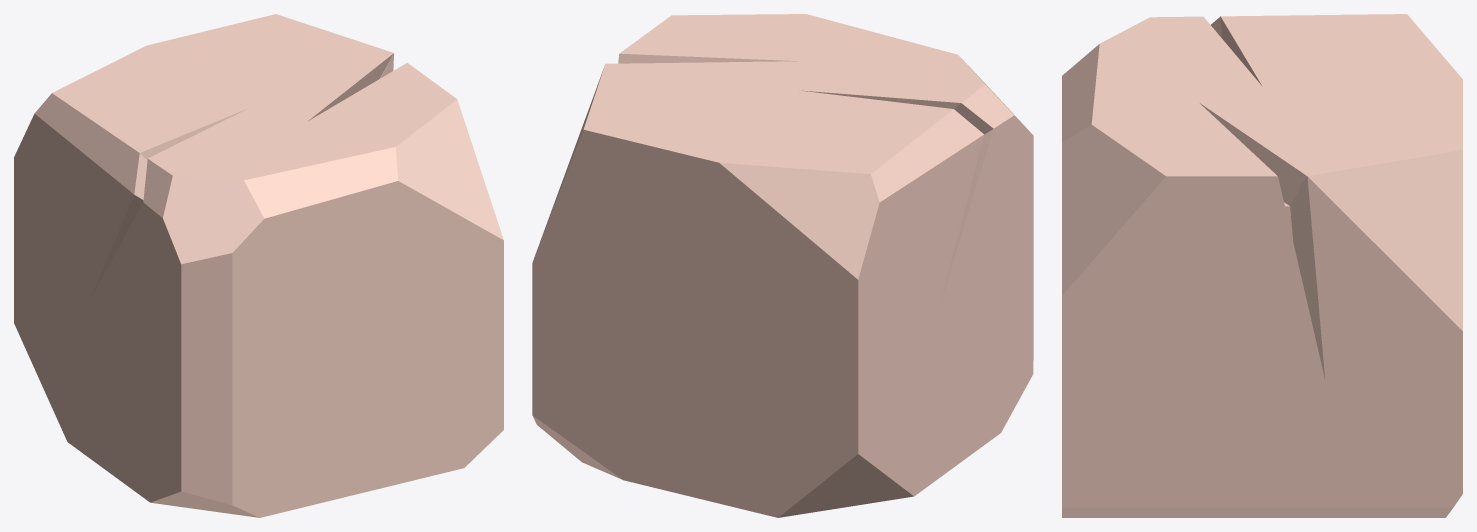
File: Stone 4.fbx
3 renders of one model, left to right at view 1: azimuth 30°, elevation 25°; view 2: azimuth 150°, elevation 25°; view 3: azimuth 270°, elevation 25°, orthographic. The views are drawn at different scales.
Parts seen in each view (by area): view 1: Stone 4; view 2: Stone 4; view 3: Stone 4.
Part boxes in pixels (x1,y1,x2,y2): Stone 4: [14, 14, 503, 517]; Stone 4: [532, 14, 1033, 517]; Stone 4: [1062, 14, 1462, 517].
Size of the model in its own units: 200 by 200 by 200.
